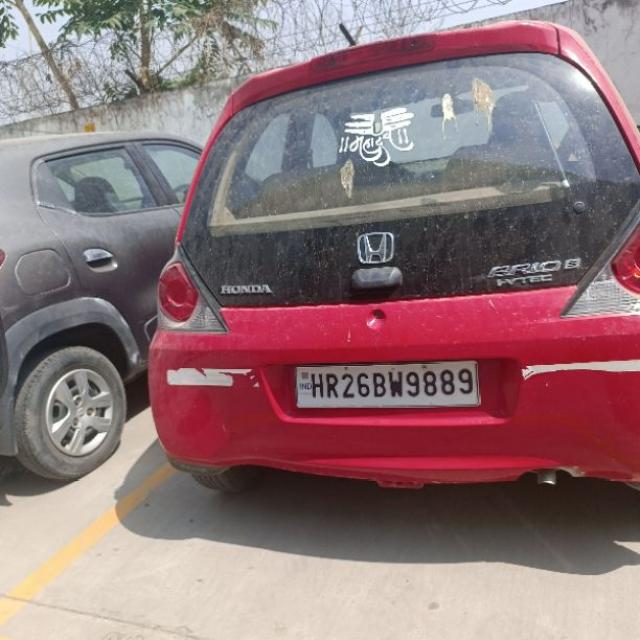license_plate: (292, 359, 481, 409)
